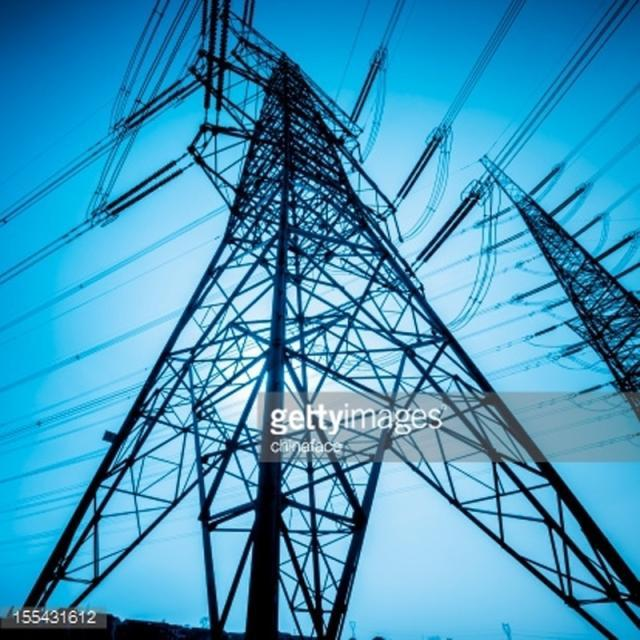non-critical vegetation: (21, 16, 630, 624)
